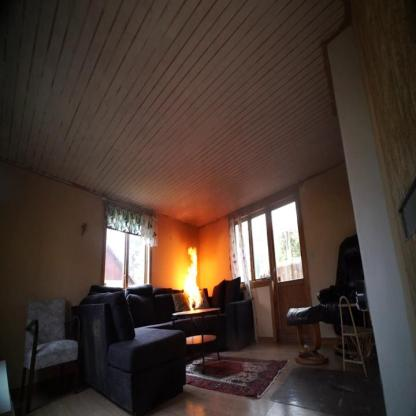fire: (181, 244, 204, 312)
